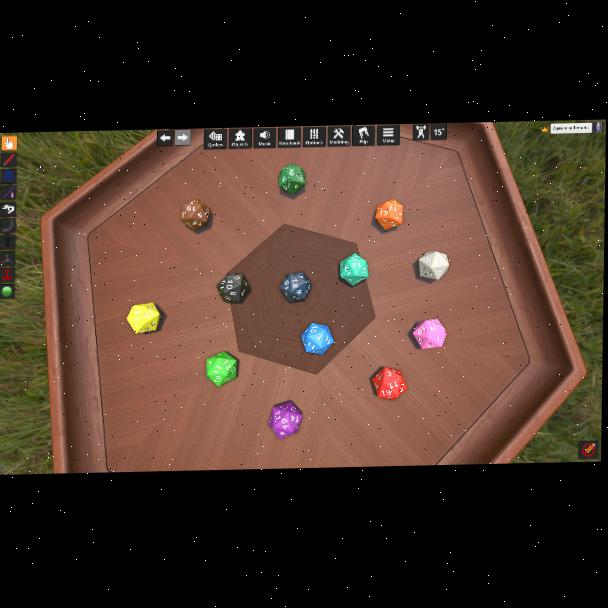d20: (267, 401, 302, 440), (279, 272, 312, 304), (206, 350, 237, 384), (126, 303, 160, 334), (414, 318, 448, 349), (338, 254, 368, 288), (370, 367, 400, 400), (216, 273, 247, 304), (300, 323, 332, 353), (180, 200, 210, 231), (416, 252, 446, 281), (278, 164, 305, 195), (374, 200, 399, 231)
